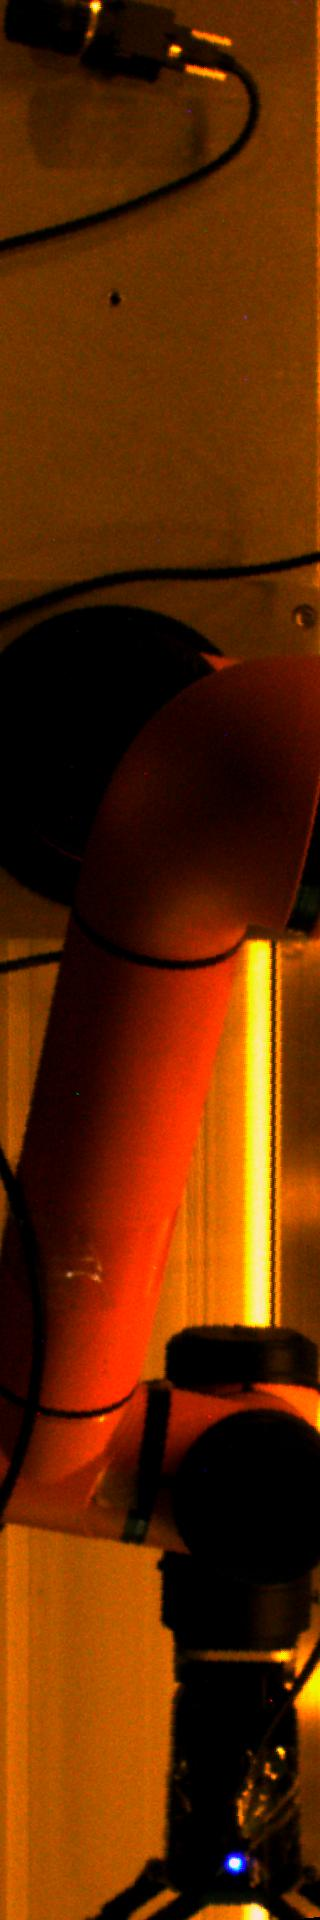keyPoint_1: (219, 1847, 250, 1877)
keyPoint_2: (99, 285, 129, 315)
